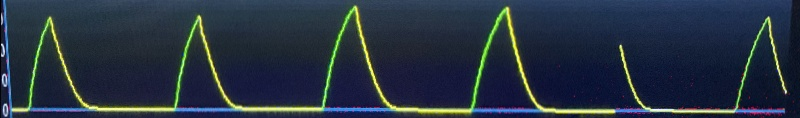normal_volume: (22, 2, 607, 118)
